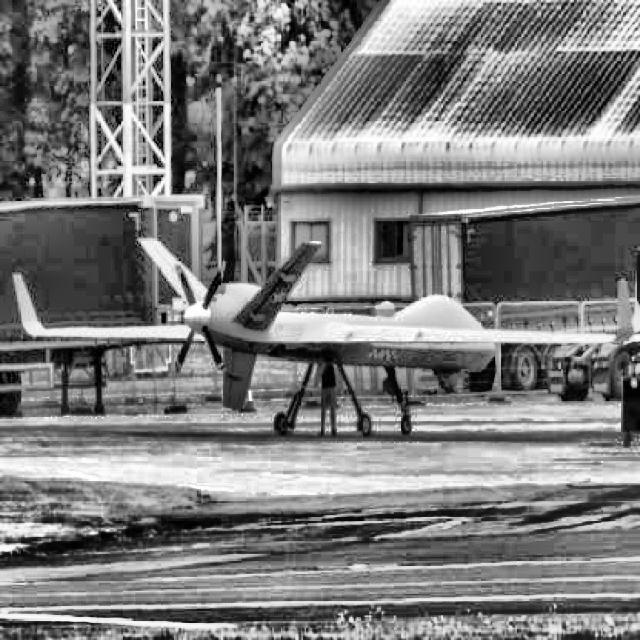MQ9: (11, 238, 634, 433)
